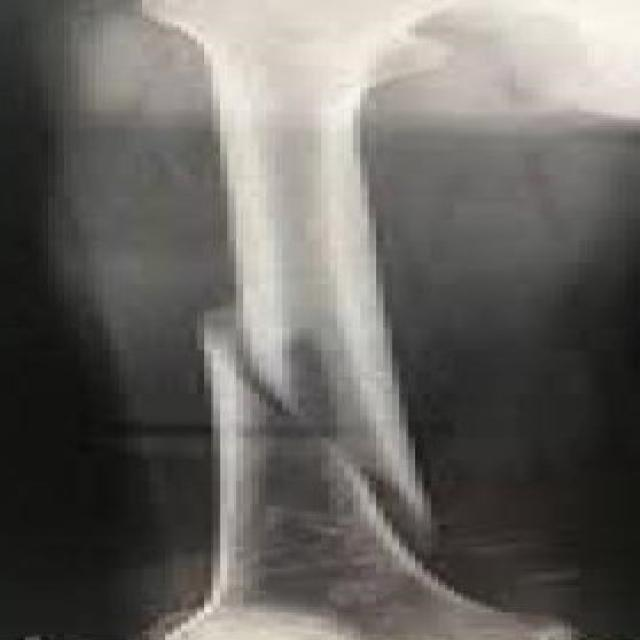Impacted: (174, 304, 482, 572)
